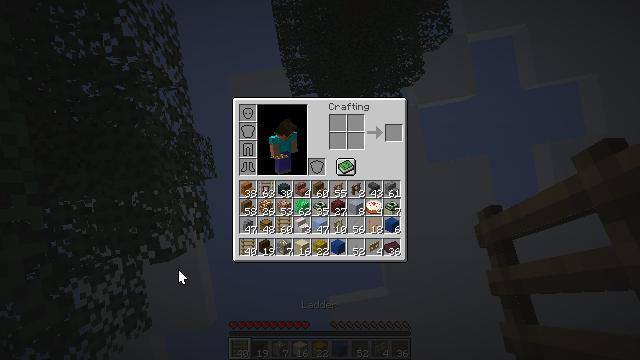cursor: (178, 269, 188, 285)
